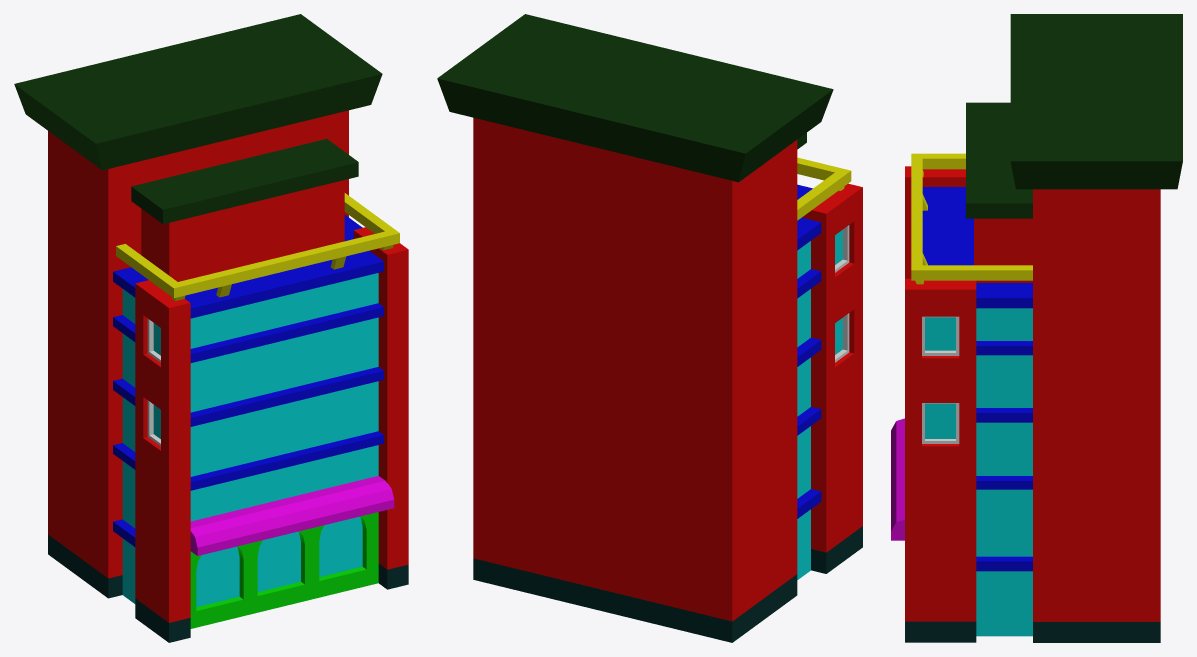
File: Building_E.fbx
3 views of the same model, side by side, from view 1: azimuth 30°, elevation 25°; view 2: azimuth 150°, elevation 25°; view 3: azimuth 270°, elevation 25° (orthographic). The views are drawn at different scales.
Parts seen in each view (by area): view 1: Building_E; view 2: Building_E; view 3: Building_E.
Boxes of the visible parts, x1,y1,x2,y2 form: Building_E: (14, 14, 408, 642); Building_E: (437, 14, 862, 642); Building_E: (891, 14, 1182, 642).
Bounding box in the file's own units: 1071 × 1670 × 896.
